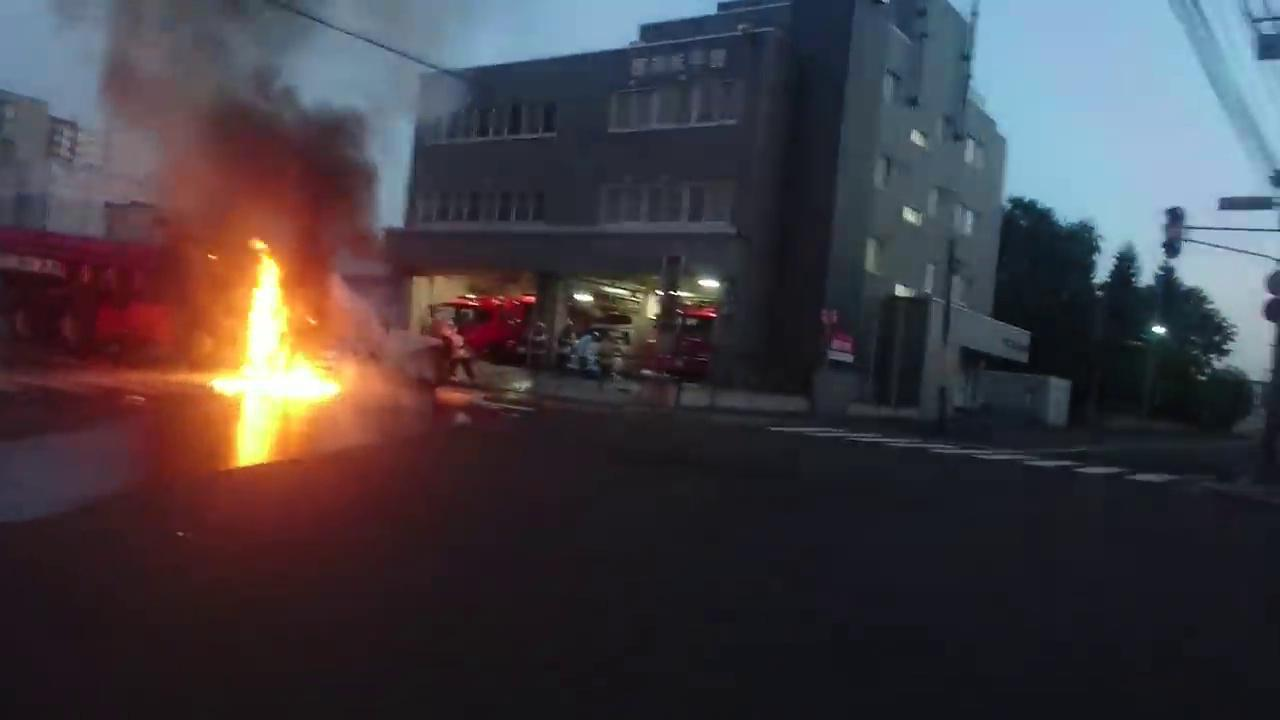Fire: (211, 240, 340, 401)
